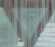Give way: (3, 1, 49, 46)
